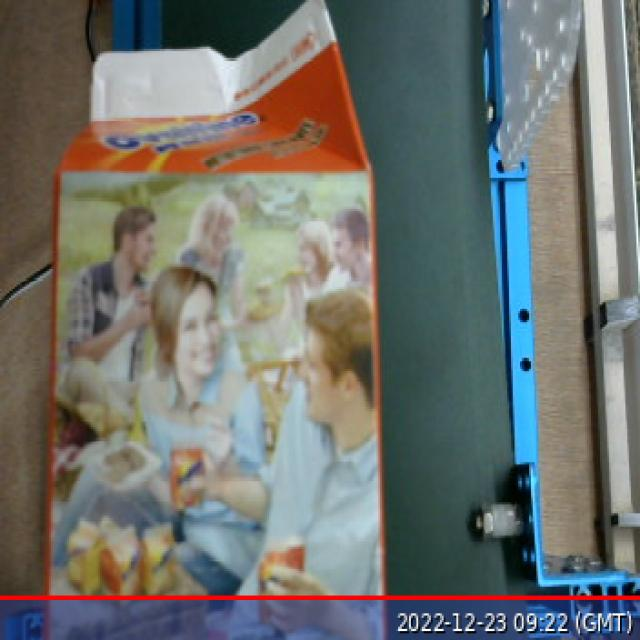non_white_jug: (42, 0, 387, 640)
